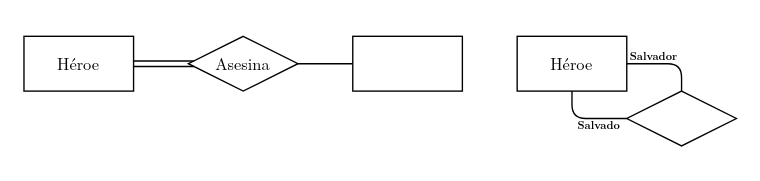
This 760x181 diagram has some shape labels left out. Each missing label, with the centre of its shape:
Dragón: (406,63)
Salva: (680,118)
